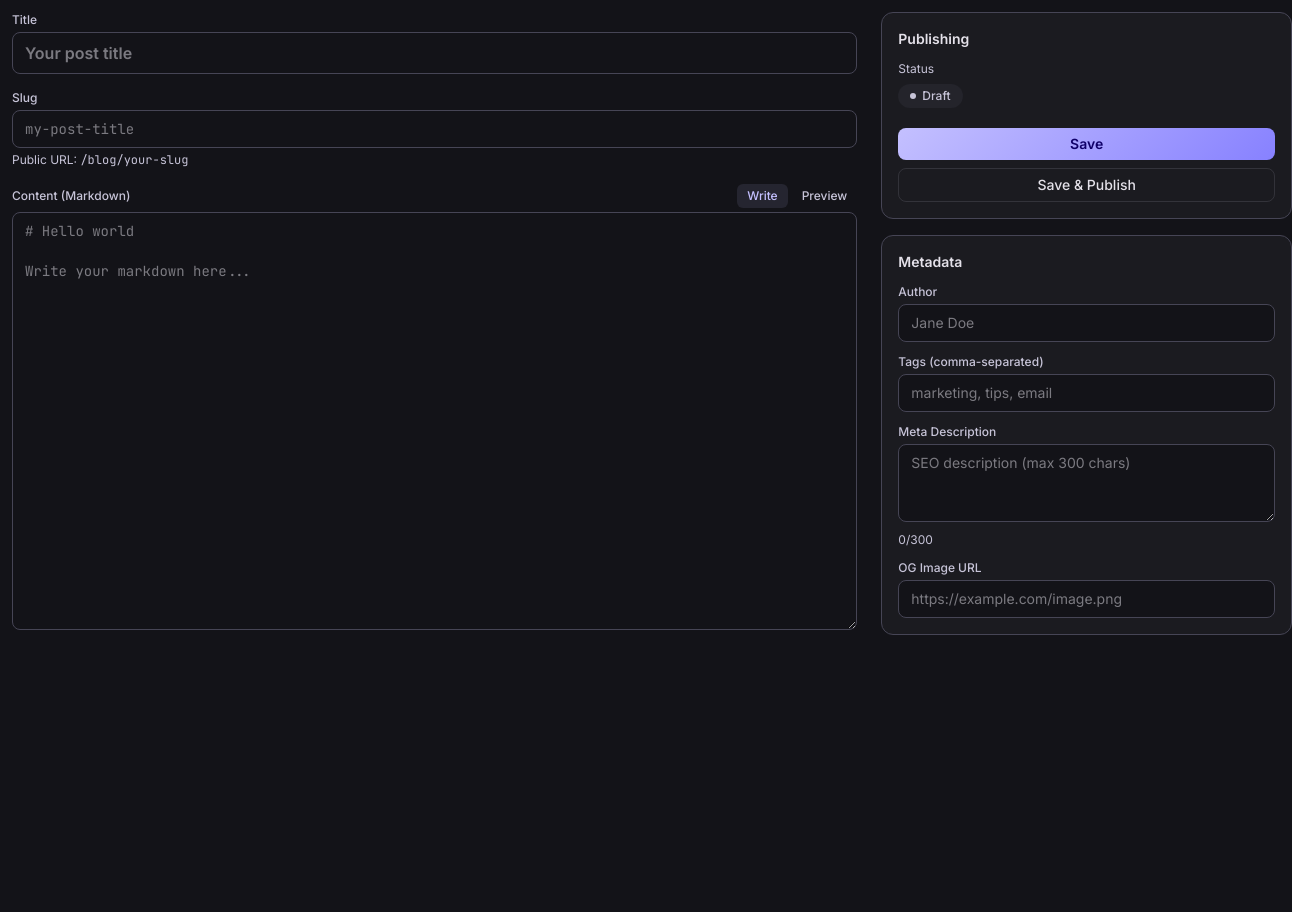
BlogPostEditor › auto-generates slug from title when slug not touched
Type "Hello World Post" into the field labelled "Title". click: (435, 53)
box: [12,32,857,74]
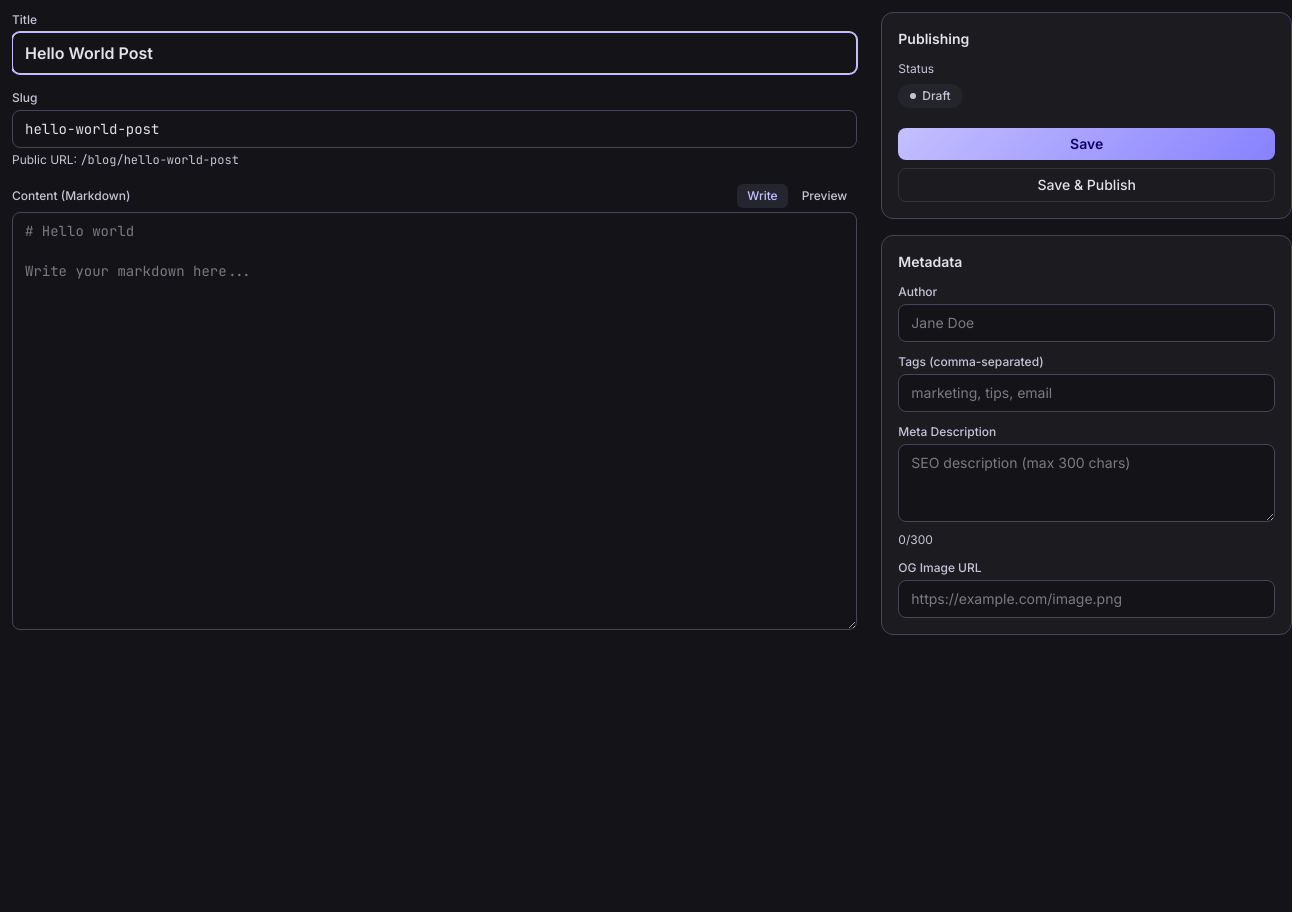
Expected: the field labelled "Slug" holds "hello-world-post", [12,110,857,148]
